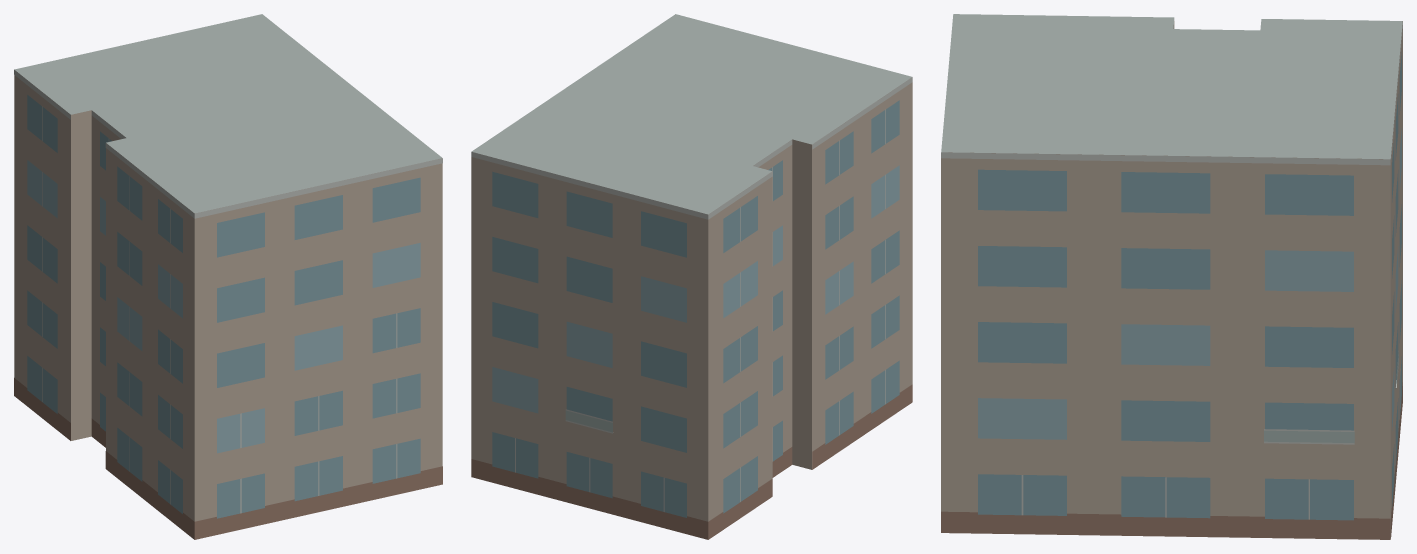
Rendered from survey-upis-32626040.glb.
The picture shows the model from 3 angles, left to right: view 1: azimuth 30°, elevation 25°; view 2: azimuth 150°, elevation 25°; view 3: azimuth 270°, elevation 25°; orthographic projection. The views are drawn at different scales.
Visible parts, largest first — view 1: survey-upis-32626040.tmp; view 2: survey-upis-32626040.tmp; view 3: survey-upis-32626040.tmp.
Part boxes in pixels (x1=…): survey-upis-32626040.tmp: x1=14, y1=14, x2=442, y2=539; survey-upis-32626040.tmp: x1=471, y1=14, x2=912, y2=539; survey-upis-32626040.tmp: x1=941, y1=14, x2=1402, y2=539.
Bounding box in the file's own units: 12.53 × 15.3 × 16.83.
